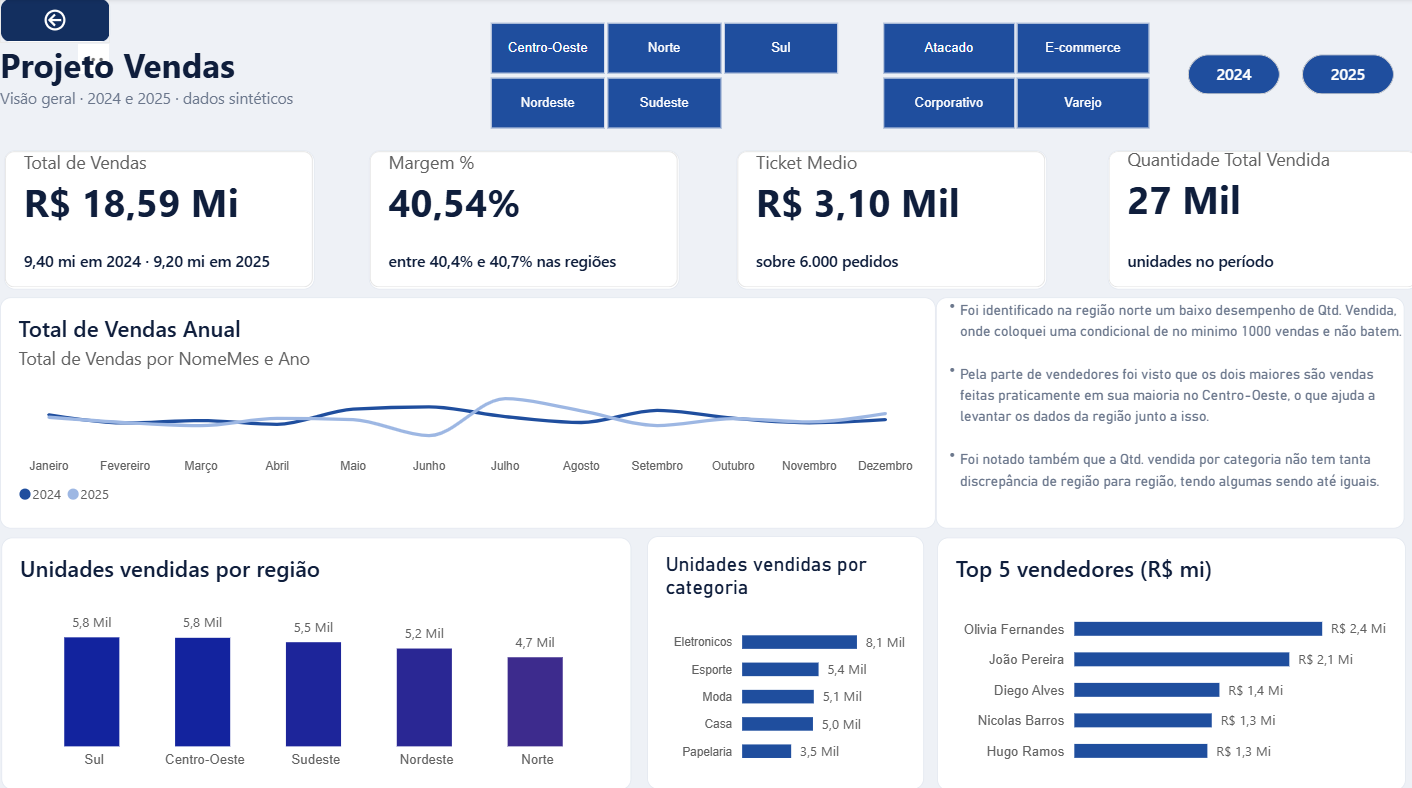

The page's visual inventory and layout, read from the dashboard file:
{"tool":"powerbi","page":{"name":"Dashboard_Vendas","canvas":[1280,720],"ordinal":0},"visuals":[{"type":"actionButton","box":[0,0,100,40],"z":4},{"type":"cardVisual","fields":{"Data":["fVendas.Total de Vendas"]},"box":[3.7,136.9,280,125.7],"z":6},{"type":"cardVisual","fields":{"Data":["fVendas.Margem %"]},"box":[332.3,136.9,280,125.7],"z":7},{"type":"cardVisual","fields":{"Data":["fVendas.Ticket Medio"]},"box":[664.5,136.9,280,125.7],"z":8},{"type":"cardVisual","fields":{"Data":["fVendas.Quantidade Total Vendida"]},"box":[999.3,136.9,280,125.7],"z":9},{"type":"lineChart","title":"Total de Vendas Anual","fields":{"Category":["dCalendario.NomeMes"],"Series":["dCalendario.Ano"],"Y2":["fVendas.Total de Vendas"]},"box":[0,270,844.3,208.6],"z":10},{"type":"columnChart","title":"Unidades vendidas por região","fields":{"Category":["dRegioes.Regiao"],"Y":["fVendas.Quantidade Total Vendida"]},"box":[1.1,486.1,568,228],"z":11},{"type":"barChart","title":"Unidades vendidas por categoria","fields":{"Category":["dProdutos.Categoria"],"Y":["fVendas.Quantidade Total Vendida"]},"box":[583.5,485.8,250,228.6],"z":12},{"type":"barChart","title":"Top 5 vendedores (R$ mi)","fields":{"Category":["dFuncionarios.Nome"],"Y":["fVendas.Total de Vendas"]},"box":[845.3,486.1,422.9,228.6],"z":13},{"type":"slicer","title":"Todas as Regiões","fields":{"Values":["dRegioes.Regiao"]},"box":[421.9,19.9,353.4,99.6],"z":14},{"type":"advancedSlicerVisual","fields":{"Values":["dCalendario.Ano"]},"box":[1071.5,51,186.7,36.1],"z":15},{"type":"slicer","fields":{"Values":["dClientes.Segmento"]},"box":[775.3,19.9,280,99.6],"z":16},{"type":"textbox","box":[844.3,269.9,422.9,208.6],"z":17},{"type":"textbox","box":[0,39.8,322.3,79.6],"z":18}]}

Visuals, with their boxes in screenshot pixels (x1, y1, x2, y2), scaled from the page's 1280x720 canvas onto the 1412x788 screenshot:
actionButton: {"left": 0, "top": 0, "right": 110, "bottom": 44}
cardVisual - fVendas.Total de Vendas: {"left": 4, "top": 150, "right": 313, "bottom": 287}
cardVisual - fVendas.Margem %: {"left": 367, "top": 150, "right": 675, "bottom": 287}
cardVisual - fVendas.Ticket Medio: {"left": 733, "top": 150, "right": 1042, "bottom": 287}
cardVisual - fVendas.Quantidade Total Vendida: {"left": 1102, "top": 150, "right": 1411, "bottom": 287}
"Total de Vendas Anual" lineChart: {"left": 0, "top": 296, "right": 931, "bottom": 524}
"Unidades vendidas por região" columnChart: {"left": 1, "top": 532, "right": 628, "bottom": 782}
"Unidades vendidas por categoria" barChart: {"left": 644, "top": 532, "right": 919, "bottom": 782}
"Top 5 vendedores (R$ mi)" barChart: {"left": 932, "top": 532, "right": 1399, "bottom": 782}
"Todas as Regiões" slicer: {"left": 465, "top": 22, "right": 855, "bottom": 131}
advancedSlicerVisual - dCalendario.Ano: {"left": 1182, "top": 56, "right": 1388, "bottom": 95}
slicer - dClientes.Segmento: {"left": 855, "top": 22, "right": 1164, "bottom": 131}
textbox: {"left": 931, "top": 295, "right": 1398, "bottom": 524}
textbox: {"left": 0, "top": 44, "right": 356, "bottom": 131}
